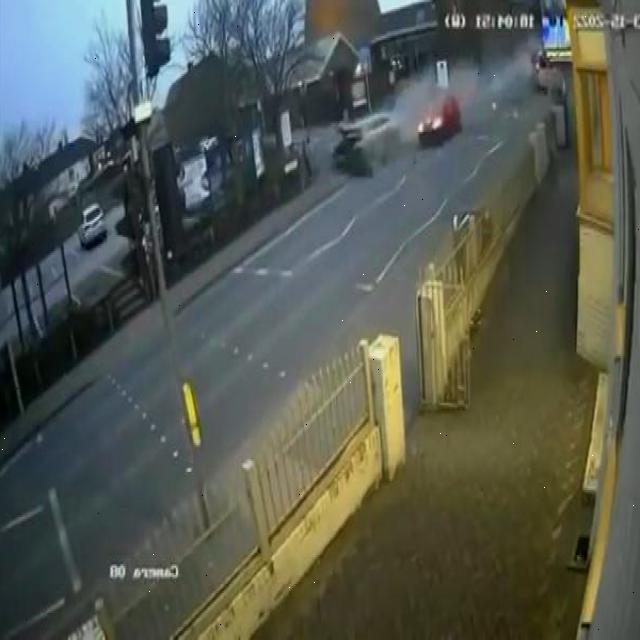accident: (332, 85, 464, 195)
